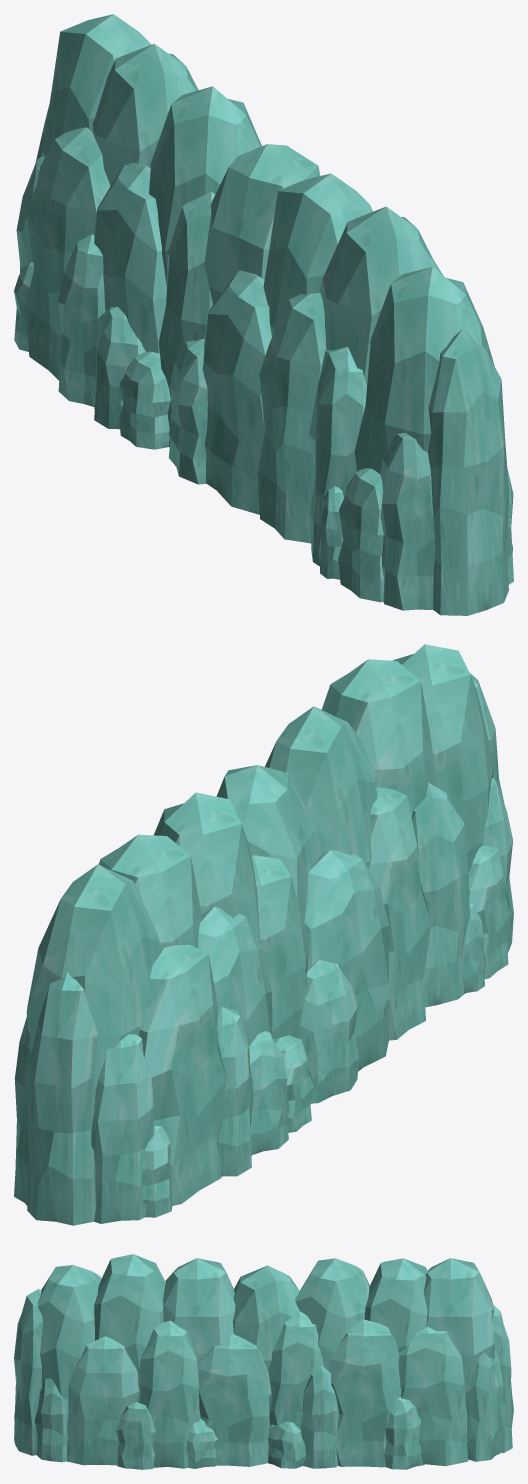
File: ModelWall_Omote_Blue.fbx
The picture shows the model from 3 angles, top to bottom: view 1: azimuth 30°, elevation 25°; view 2: azimuth 150°, elevation 25°; view 3: azimuth 270°, elevation 25°; orthographic projection. The views are drawn at different scales.
Visible parts, largest first — view 1: Kabe_Omote_Blue; view 2: Kabe_Omote_Blue; view 3: Kabe_Omote_Blue.
Part boxes in pixels (x1,y1,x2,y2): Kabe_Omote_Blue: (14, 14, 513, 615); Kabe_Omote_Blue: (14, 644, 513, 1225); Kabe_Omote_Blue: (14, 1254, 513, 1469).
Size of the model in its own units: 23.23 by 38.93 by 92.04.
Materials: 1 (1 with a texture image).
